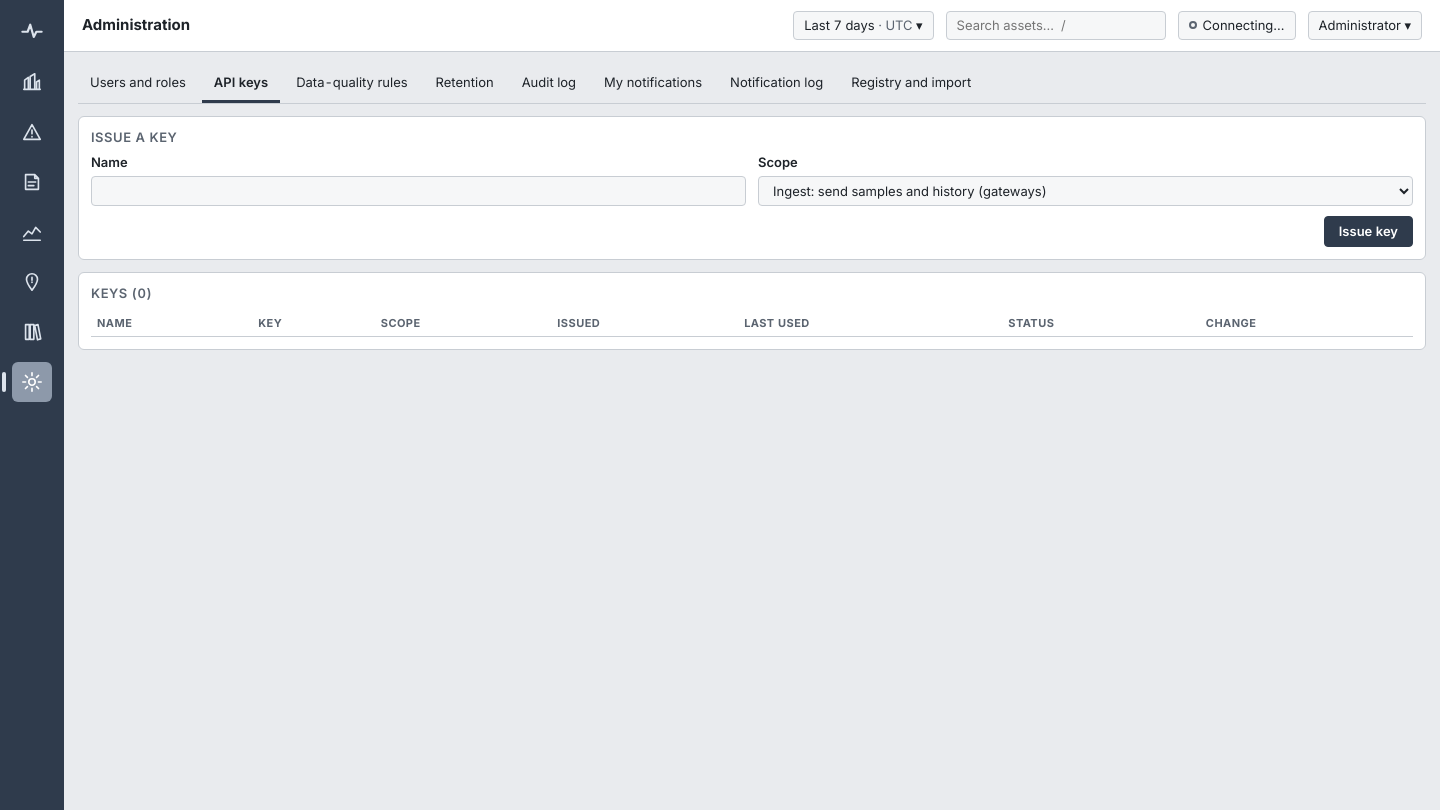
SCR-14 administration › shows a new API key once, then only its prefix
Type "gateway A" into the field labelled "Name". click: (418,191)
box: [91,176,746,206]
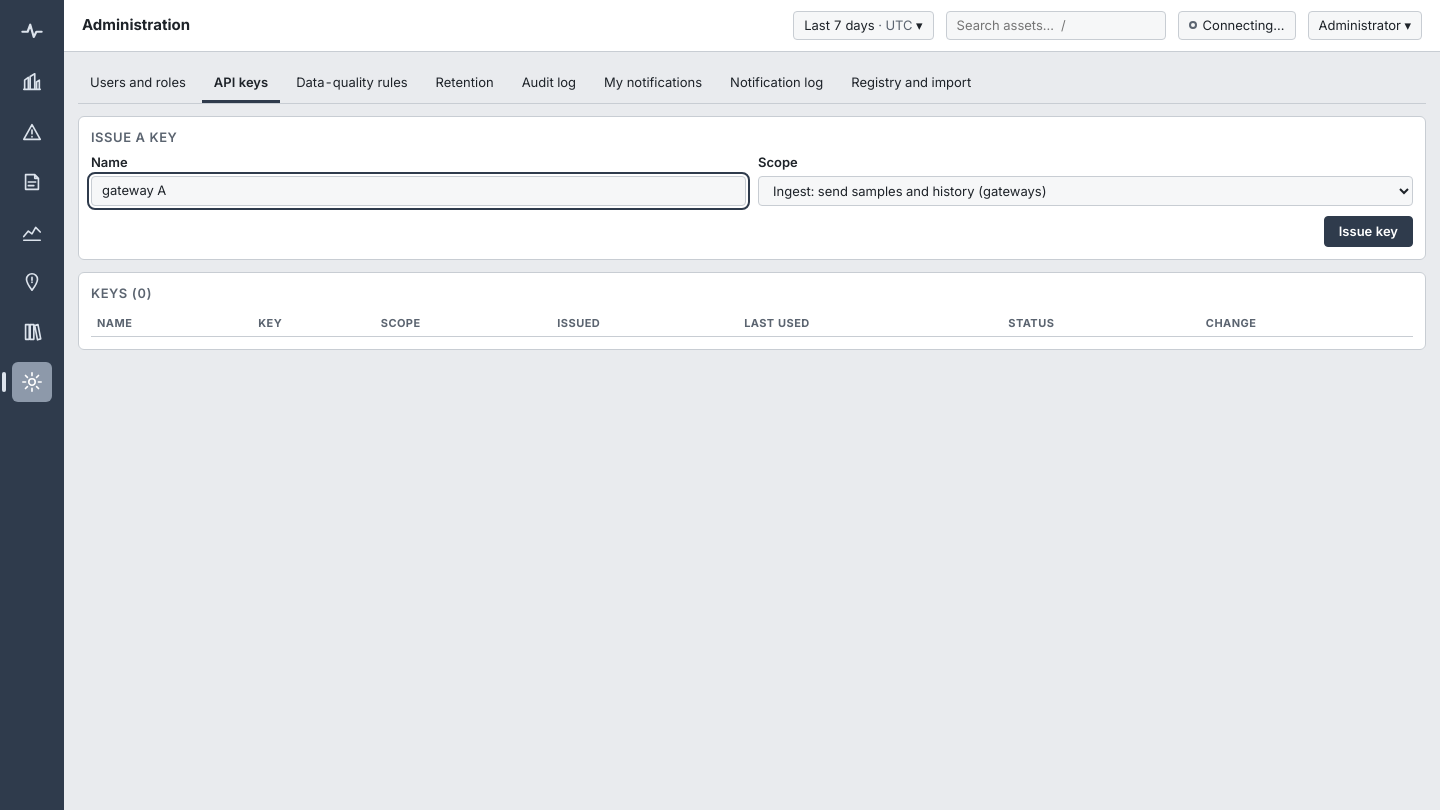
Click the button "Issue key". click: (1368,231)
box: [1324,216,1413,247]
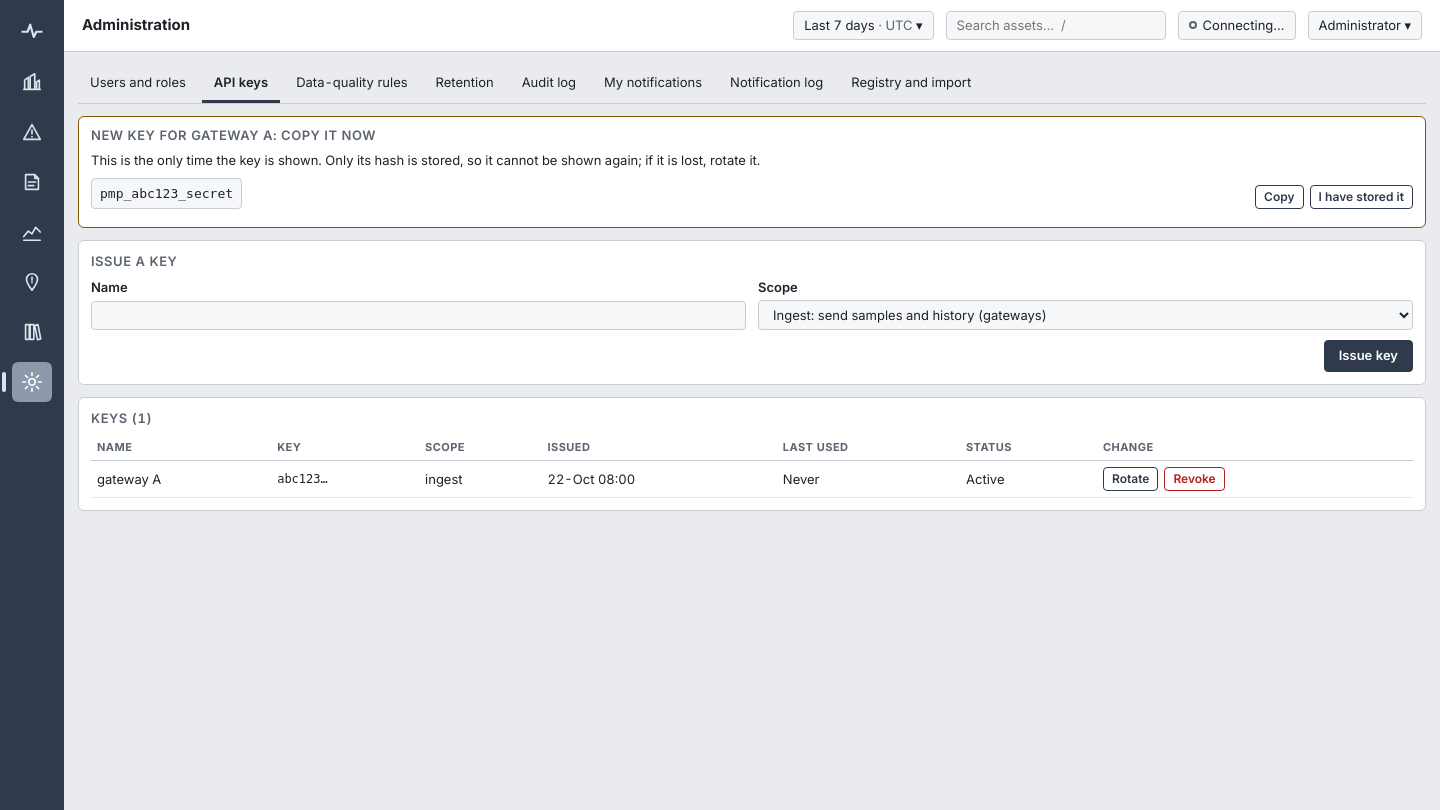
Expected: the text named "The new key" reads "pmp_abc123_secret", [100,186,233,201]
Expected: the text "abc123…" is shown, [271,461,419,498]
Click the button "I have stored it". click: (1361,197)
box: [1310,185,1413,209]
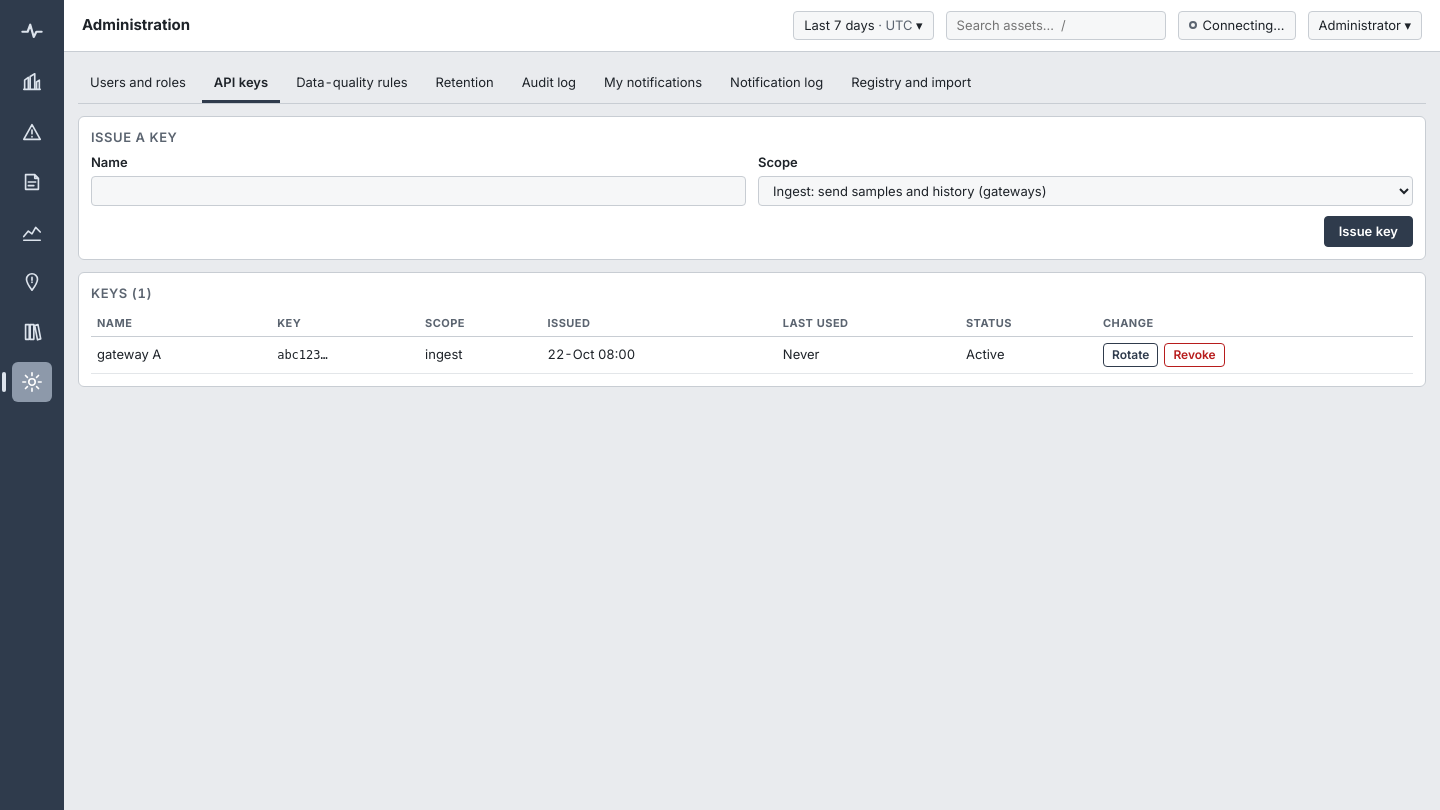
Expected: the text "pmp_abc123_secret" is gone
